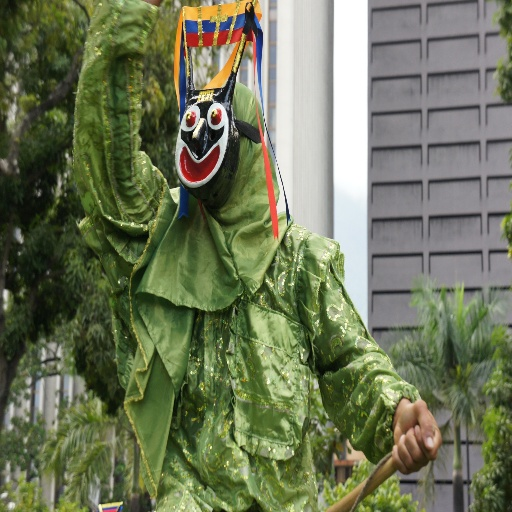hand: (389, 398, 444, 476)
